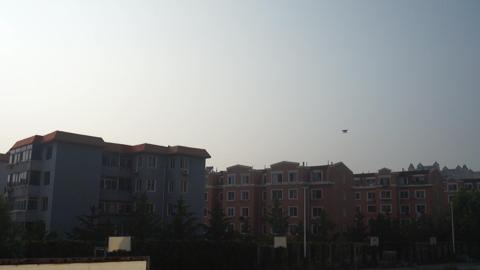UAV: (341, 129, 350, 134)
